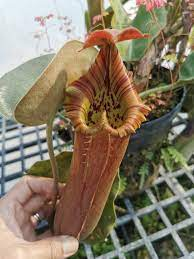truncata: (41, 14, 160, 251)
